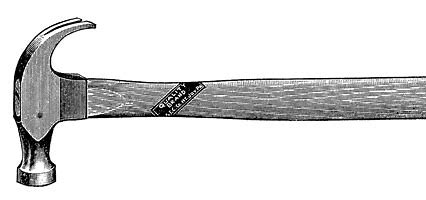martillu: (8, 17, 423, 189)
